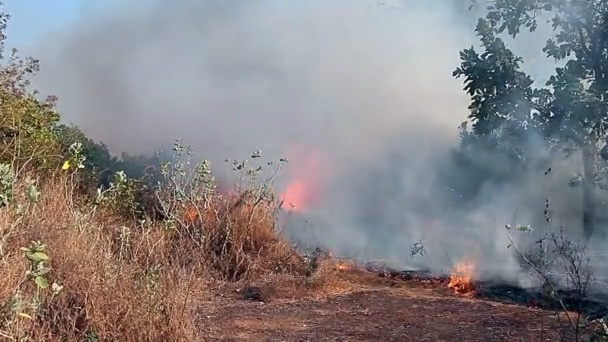fire: (450, 264, 471, 287), (61, 162, 69, 168)
